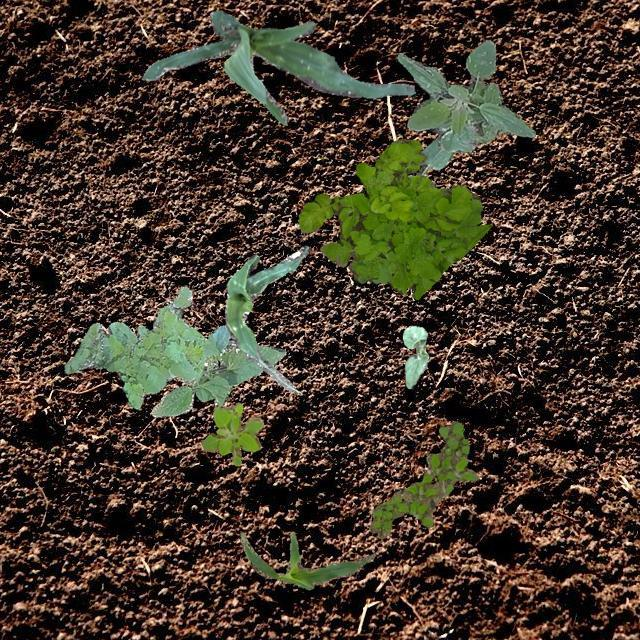crop: (140, 10, 414, 124), (396, 39, 534, 152), (150, 324, 284, 416), (224, 244, 308, 390), (240, 532, 374, 588), (402, 324, 428, 388), (416, 134, 452, 174)
weed: (298, 138, 490, 298), (64, 286, 218, 408), (368, 420, 478, 538), (200, 402, 262, 464)
